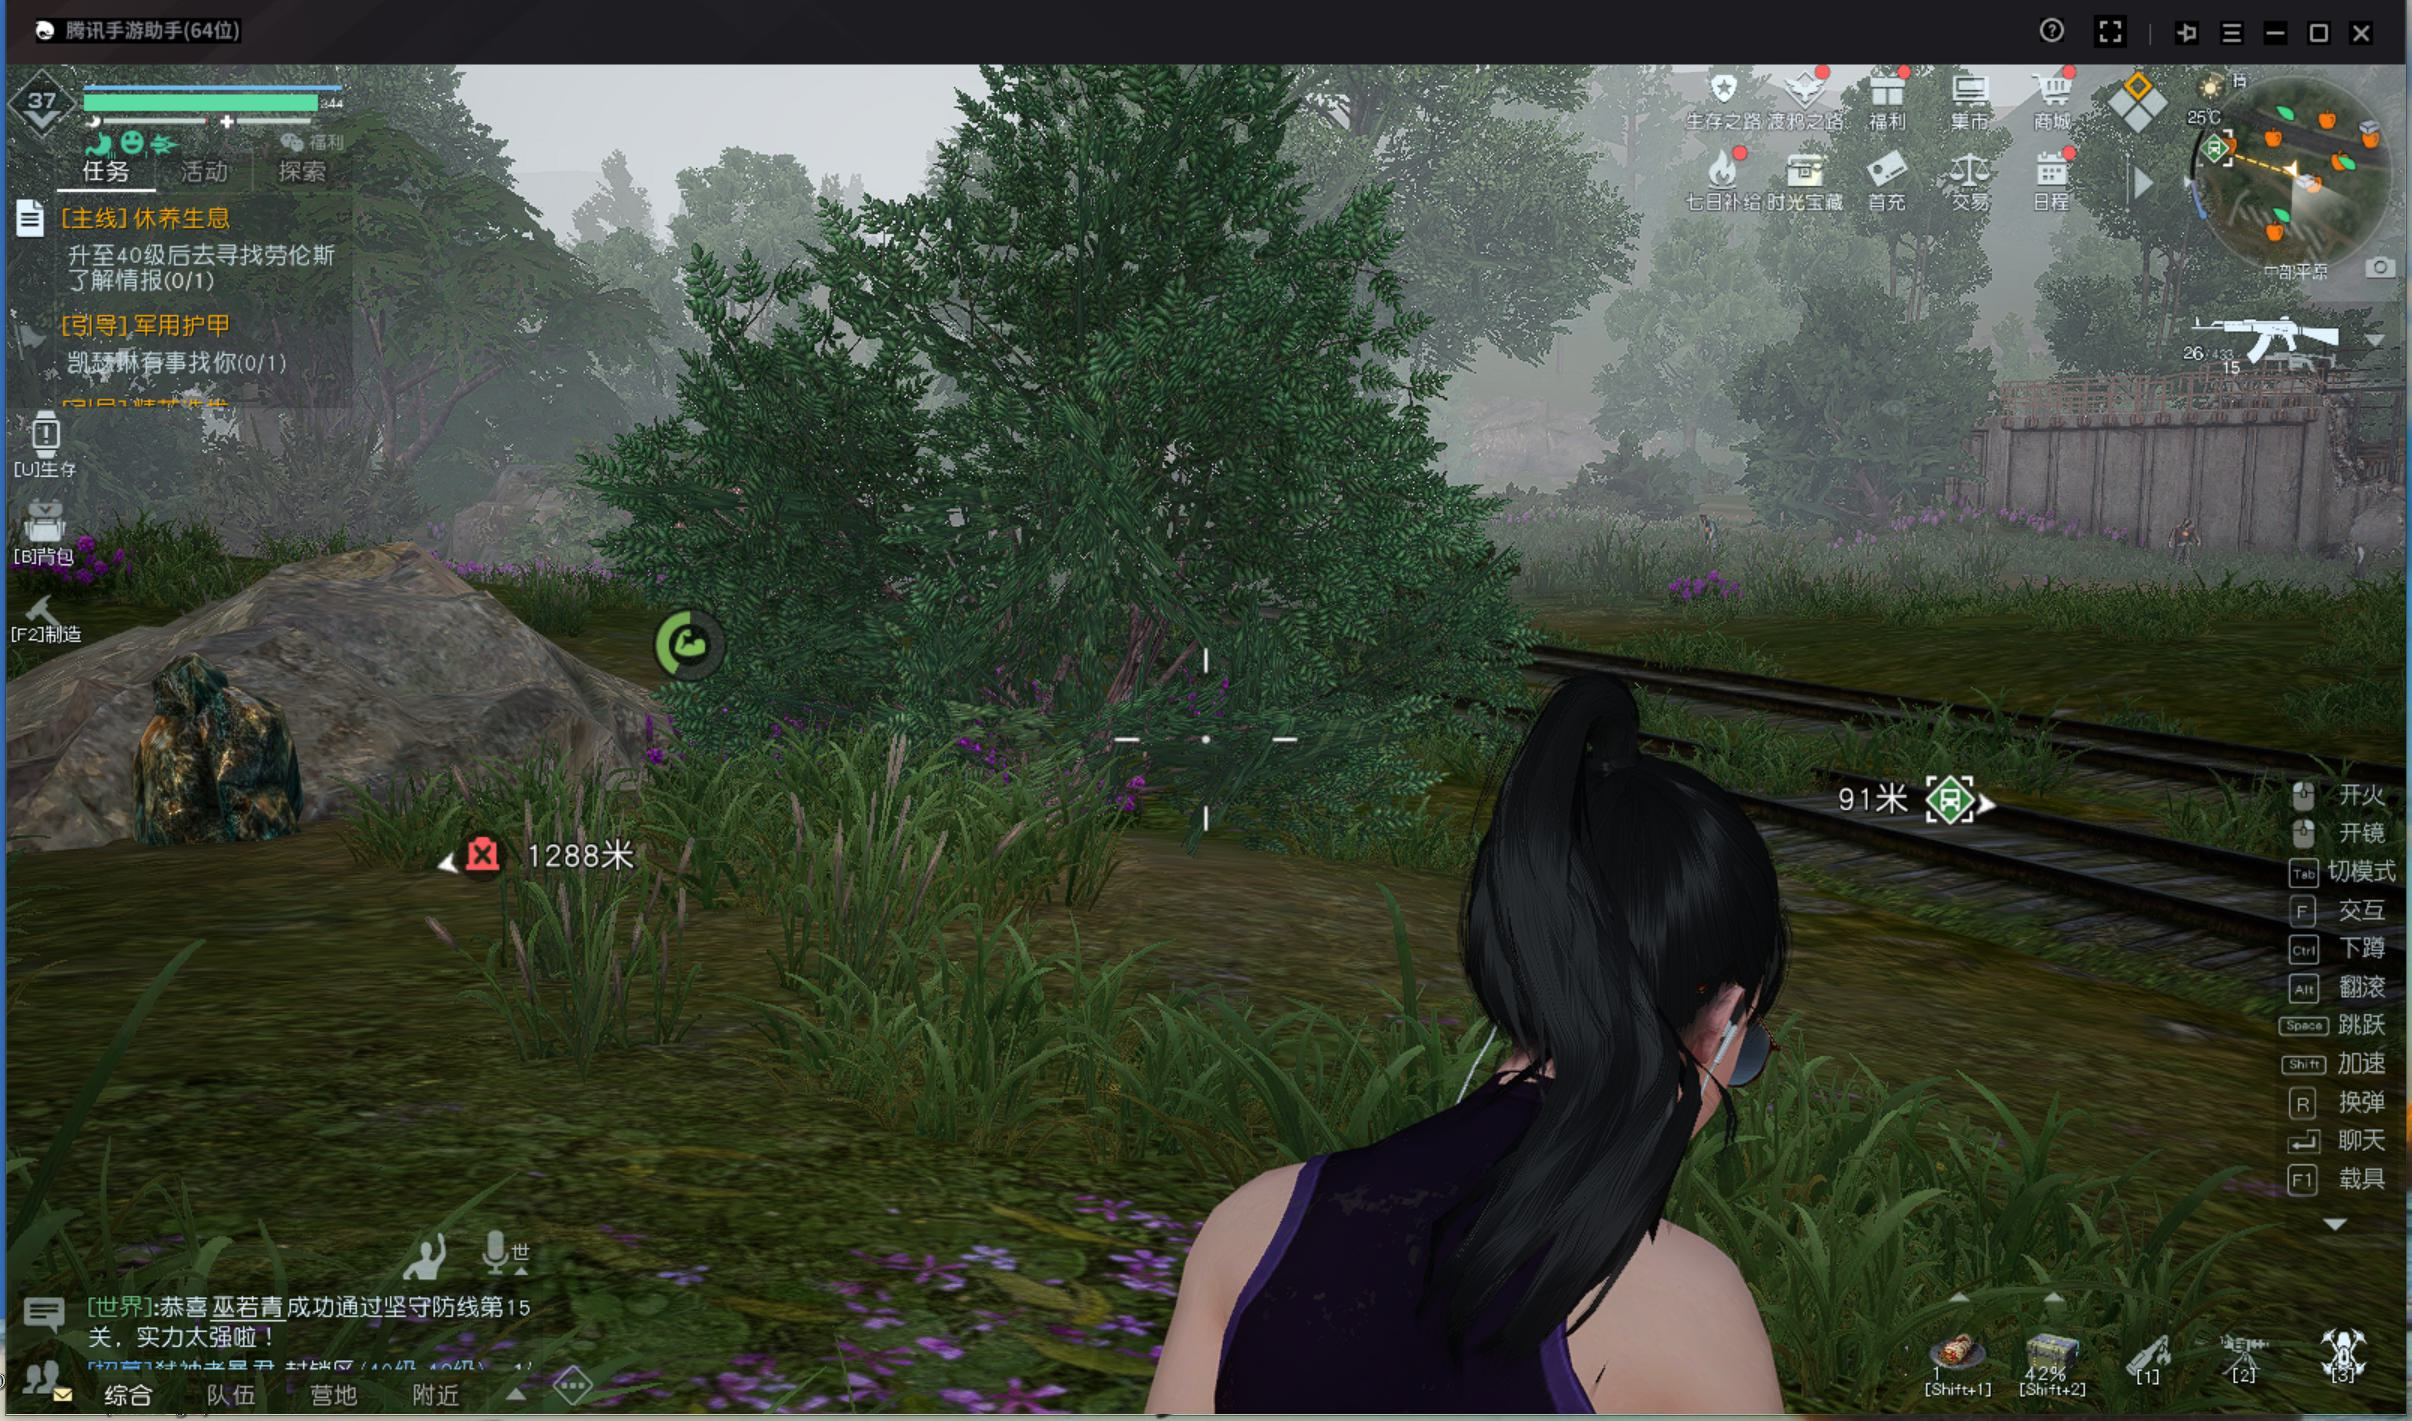stone: (112, 650, 323, 851)
